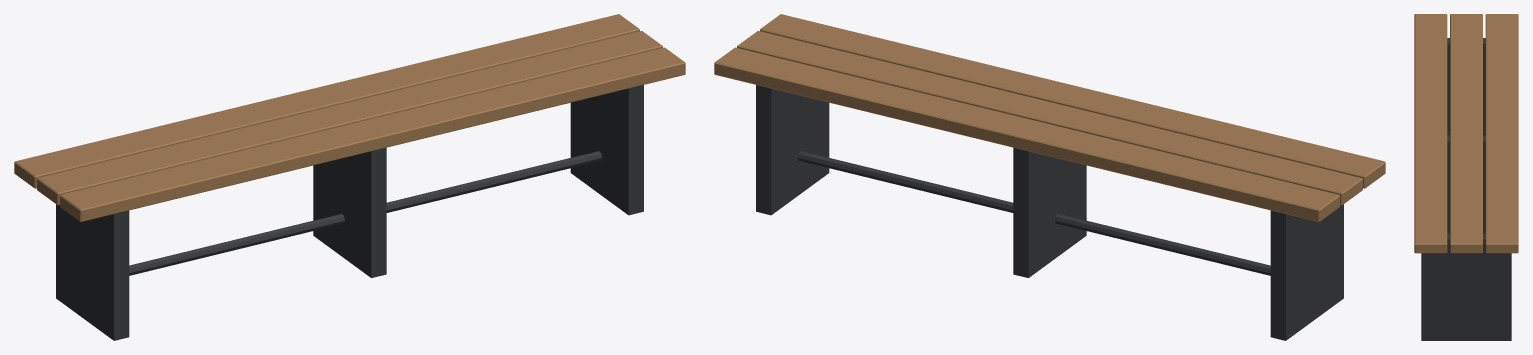
File: prop_bench_locker.glb
The picture shows the model from 3 angles, left to right: view 1: azimuth 30°, elevation 25°; view 2: azimuth 150°, elevation 25°; view 3: azimuth 270°, elevation 25°; orthographic projection. The views are drawn at different scales.
Visible parts, largest first — view 1: Bench; view 2: Bench; view 3: Bench.
Boxes of the visible parts, x1,y1,x2,y2 form: Bench: [14, 14, 685, 340]; Bench: [714, 14, 1385, 340]; Bench: [1414, 14, 1518, 340].
Size of what is drawn, in the model's own units: 1.99 by 0.45 by 0.38.
